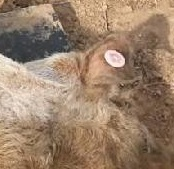text: (97, 39, 135, 76)
